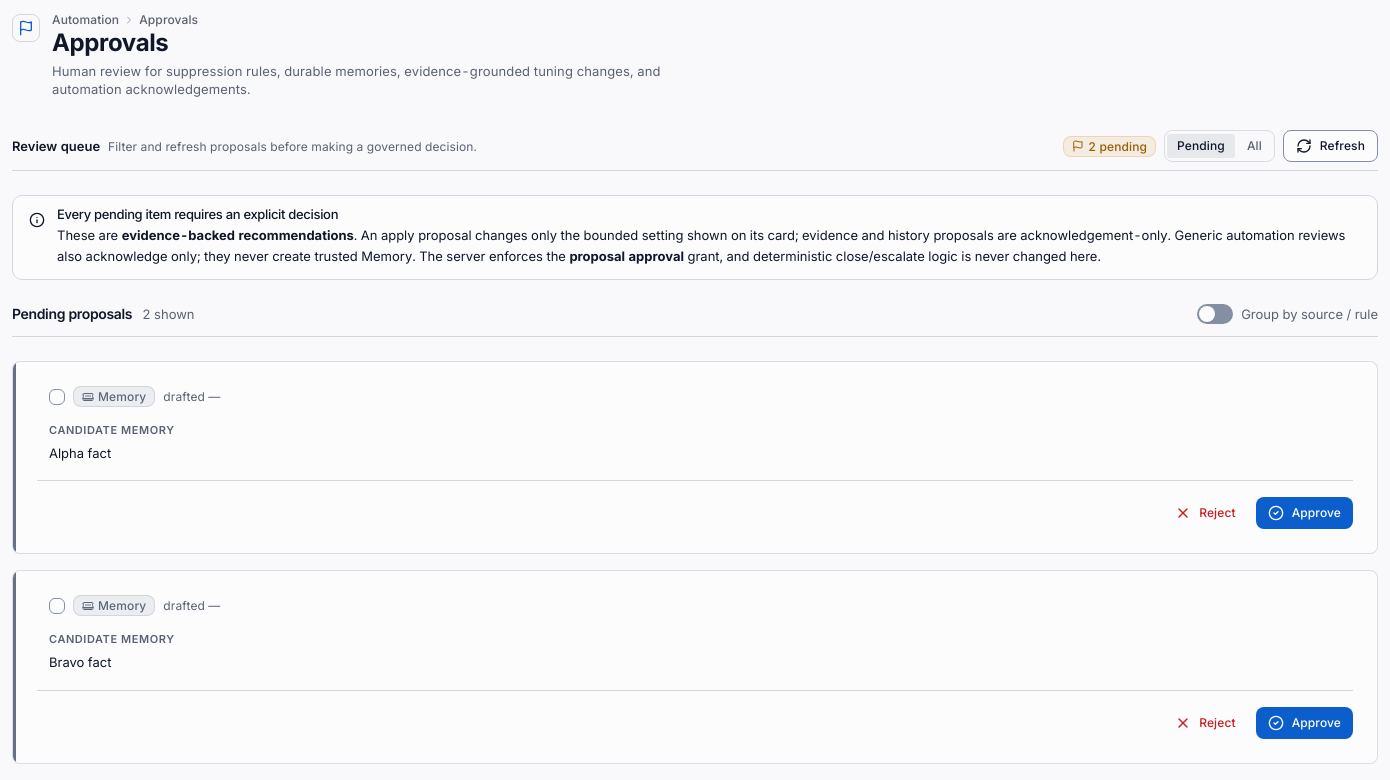
Scenario: Approvals in-flight lock (finding #34) › disables a second card’s actions while another card’s decision is in flight
Expected: the text "Bravo fact" is shown, [49,654,111,670]
Expected: the element named "Approval queue controls" is shown, [1063,130,1378,162]
Approve card A (the first card).
Click the 1st button "Approve" at (1304, 513), box [1256,497,1353,529]
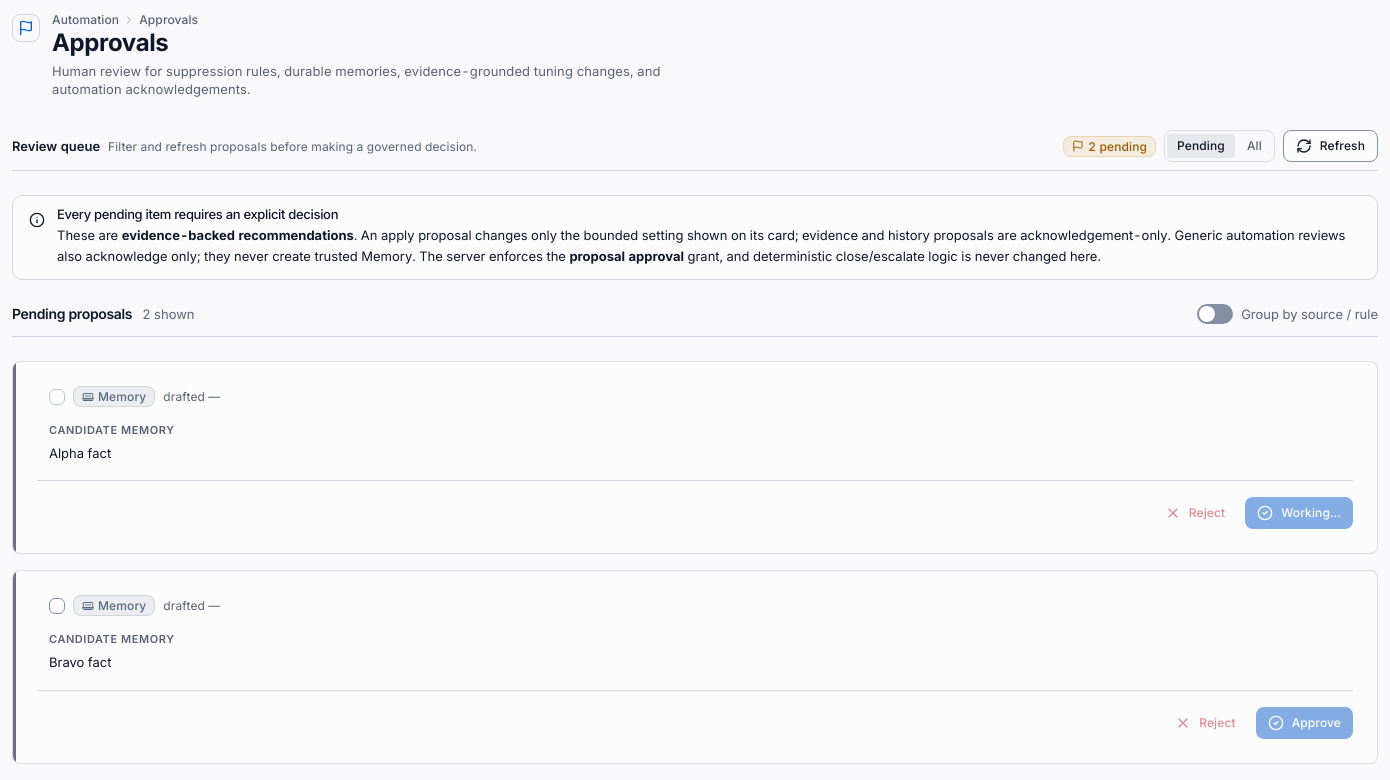
Expected: the 2nd button "Reject" is disabled, [1163,706,1248,738]
